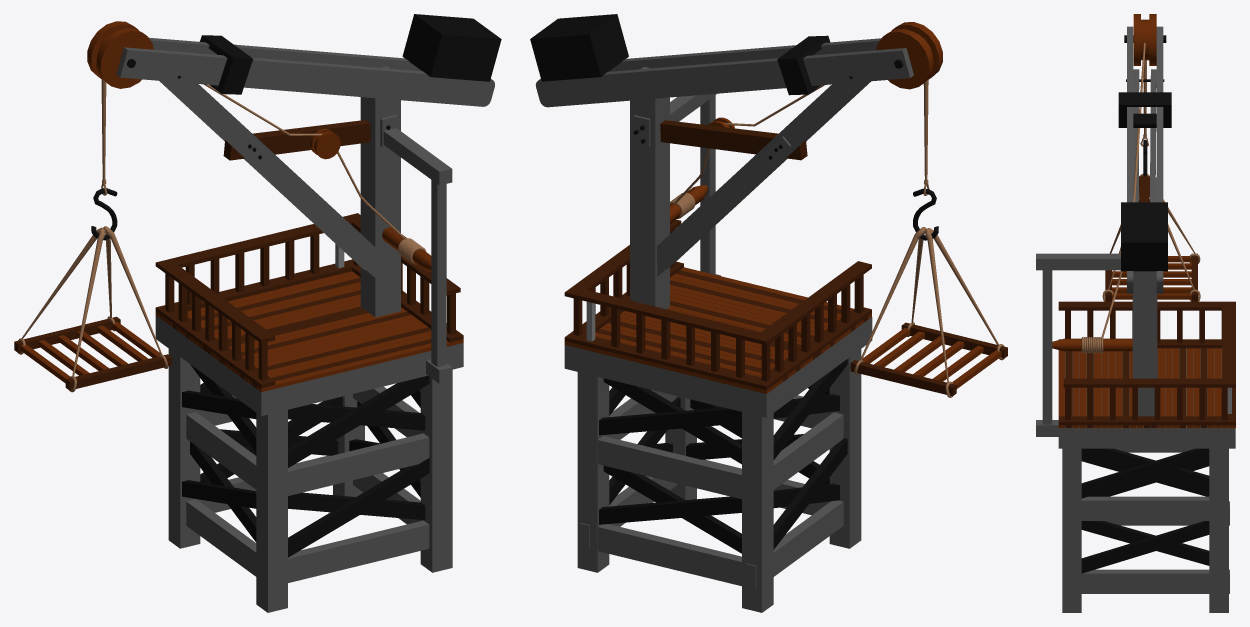
The model's file is Crane_v1.fbx.
3 renders of one model, left to right at view 1: azimuth 30°, elevation 25°; view 2: azimuth 150°, elevation 25°; view 3: azimuth 270°, elevation 25°, orthographic. The views are drawn at different scales.
Parts seen in each view (by area): view 1: Crane; view 2: Crane; view 3: Crane.
Part boxes in pixels (x1,y1,x2,y2): Crane: (14,14,501,612); Crane: (530,14,1007,612); Crane: (1036,14,1235,612).
Bounding box in the file's own units: 1638 × 2035 × 766.
